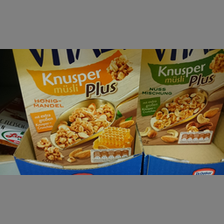cereal: (13, 49, 144, 162), (137, 49, 224, 147)
